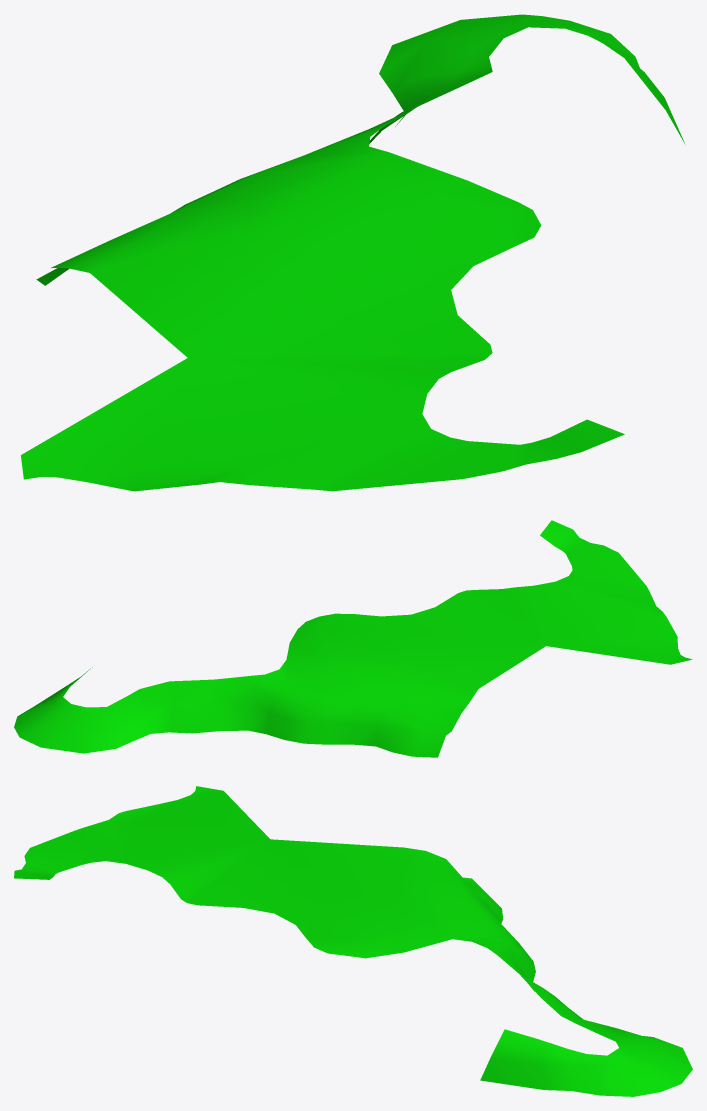
The model's file is LeftCoastLine.glb.
3 renders of one model, top to bottom at view 1: azimuth 30°, elevation 25°; view 2: azimuth 150°, elevation 25°; view 3: azimuth 270°, elevation 25°, orthographic. The views are drawn at different scales.
Visible parts, largest first — view 1: LeftCoastLine; view 2: LeftCoastLine; view 3: LeftCoastLine.
Boxes of the visible parts, x1=… form: LeftCoastLine: x1=21, y1=14, x2=685, y2=491; LeftCoastLine: x1=14, y1=520, x2=692, y2=757; LeftCoastLine: x1=14, y1=786, x2=692, y2=1096.
Size of the model in its own units: 22.9 by 2.81 by 24.28.
